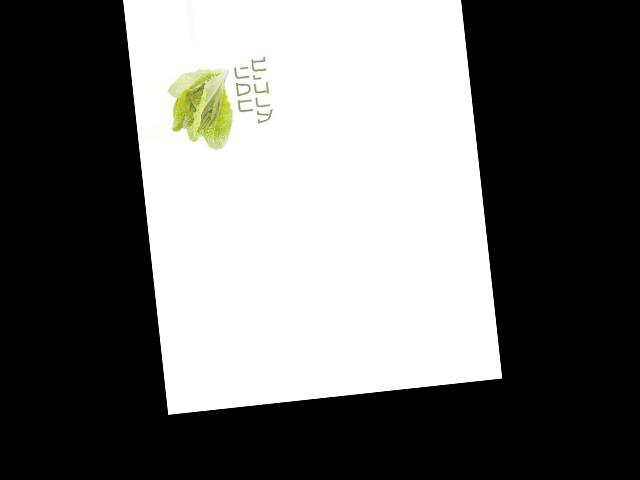lettuce: (163, 34, 259, 154)
